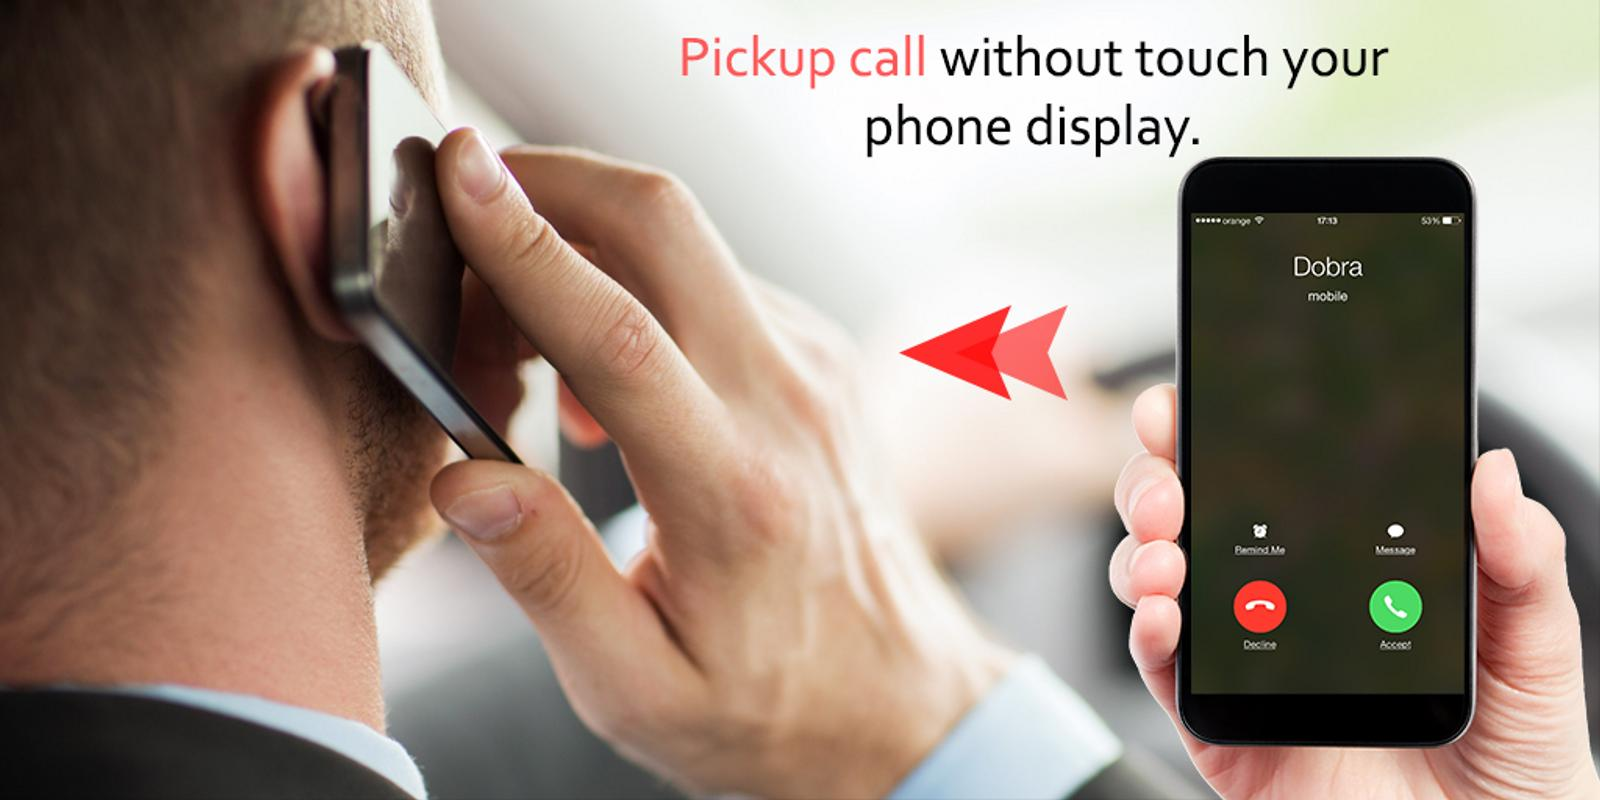phone: (1176, 153, 1483, 755), (335, 44, 573, 505)
